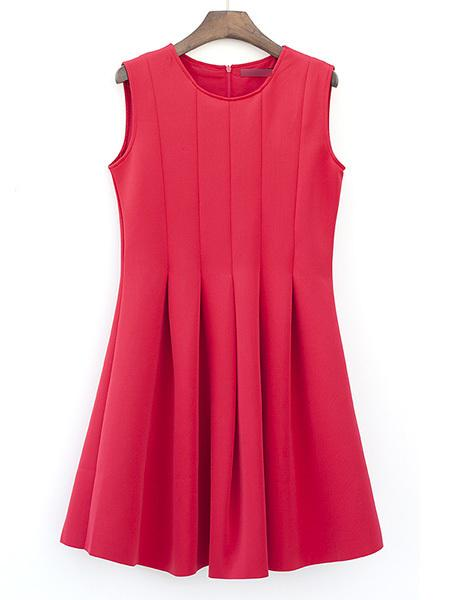C_dress: (54, 41, 388, 584)
